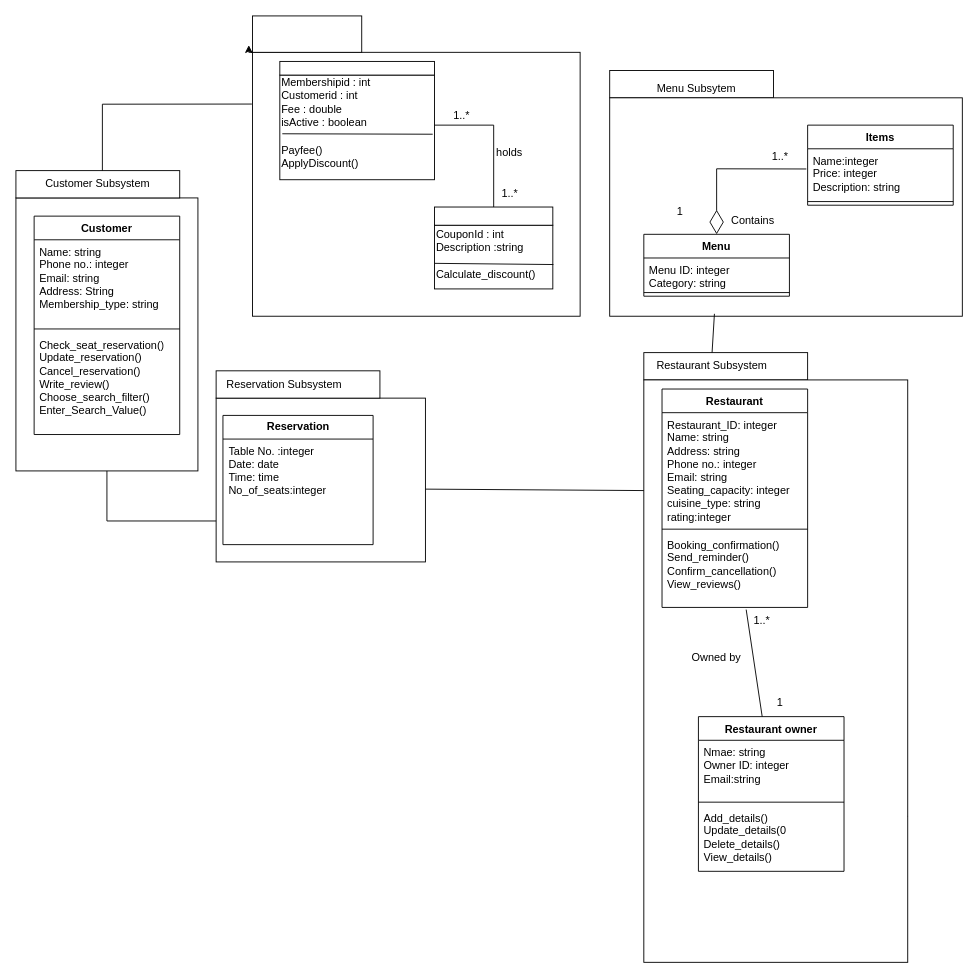
The diagram is 978 pixels wide and 978 high, and some of its shapes have lost their labels. The centre of each missing label's shape, as x and y in pixels:
"Coupon" belongs at [493,215].
"Membership" belongs at [357,68].
"Premium Membership" belongs at [307,33].
